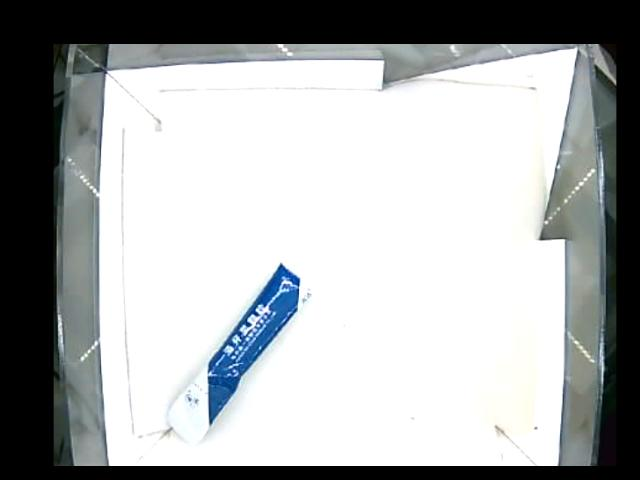Medicine: (167, 255, 320, 446)
